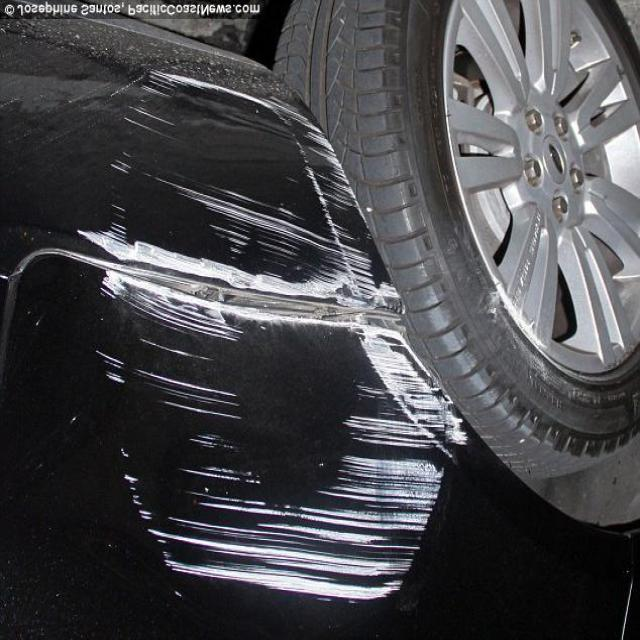scratch: (92, 75, 482, 598)
